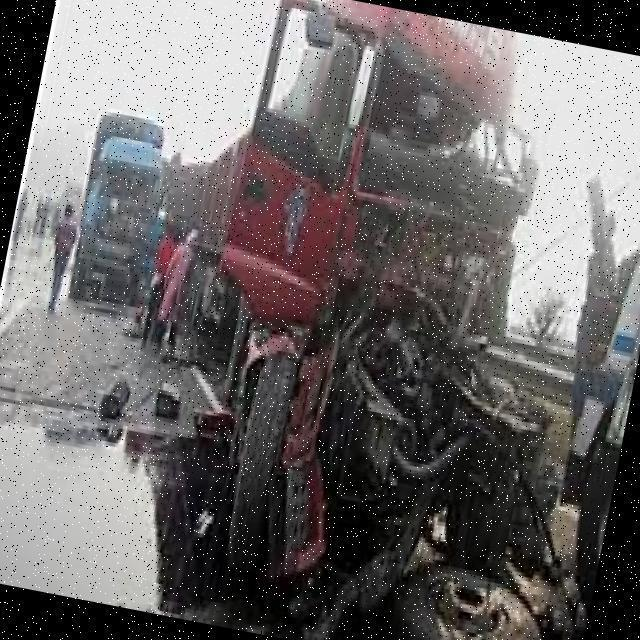accident: (169, 25, 640, 640), (56, 106, 213, 322)
